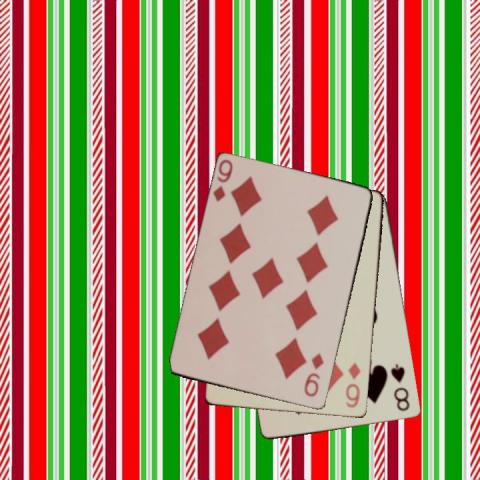6d: (343, 360, 362, 409)
8s: (388, 360, 411, 412)
9d: (301, 350, 326, 399), (210, 157, 235, 204)
